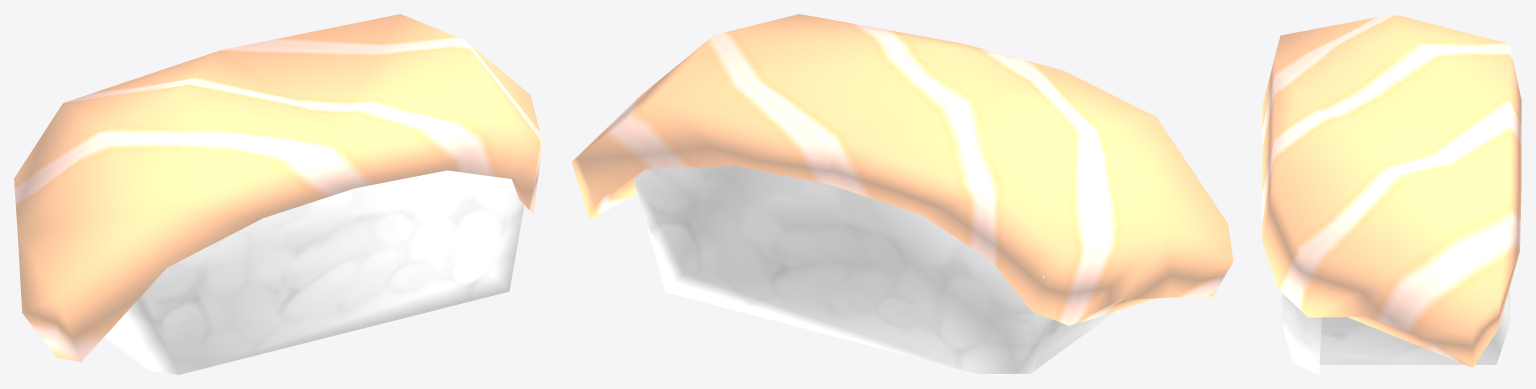
File: orange_nigirisushi.glb
3 renders of one model, left to right at view 1: azimuth 30°, elevation 25°; view 2: azimuth 150°, elevation 25°; view 3: azimuth 270°, elevation 25°, orthographic. The views are drawn at different scales.
Parts seen in each view (by area): view 1: Orange_NigiriSushi; view 2: Orange_NigiriSushi; view 3: Orange_NigiriSushi.
Part boxes in pixels (x1,y1,x2,y2): Orange_NigiriSushi: [14, 14, 542, 374]; Orange_NigiriSushi: [571, 14, 1233, 374]; Orange_NigiriSushi: [1262, 14, 1521, 374].
Bounding box in the file's own units: 0.8148 × 0.3244 × 0.3434.
Materials: 1 (1 with a texture image).
